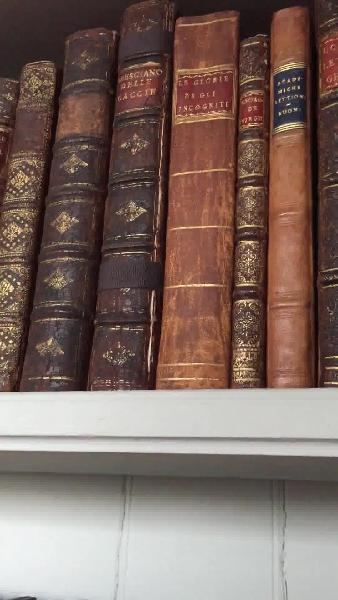Aa6-30: (4, 56, 51, 398)
Aa6-31: (27, 29, 104, 397)
Aa6-32: (103, 4, 164, 389)
Aa6-33: (155, 6, 234, 402)
Aa6-34: (233, 30, 265, 395)
Aa6-35: (257, 2, 313, 388)
